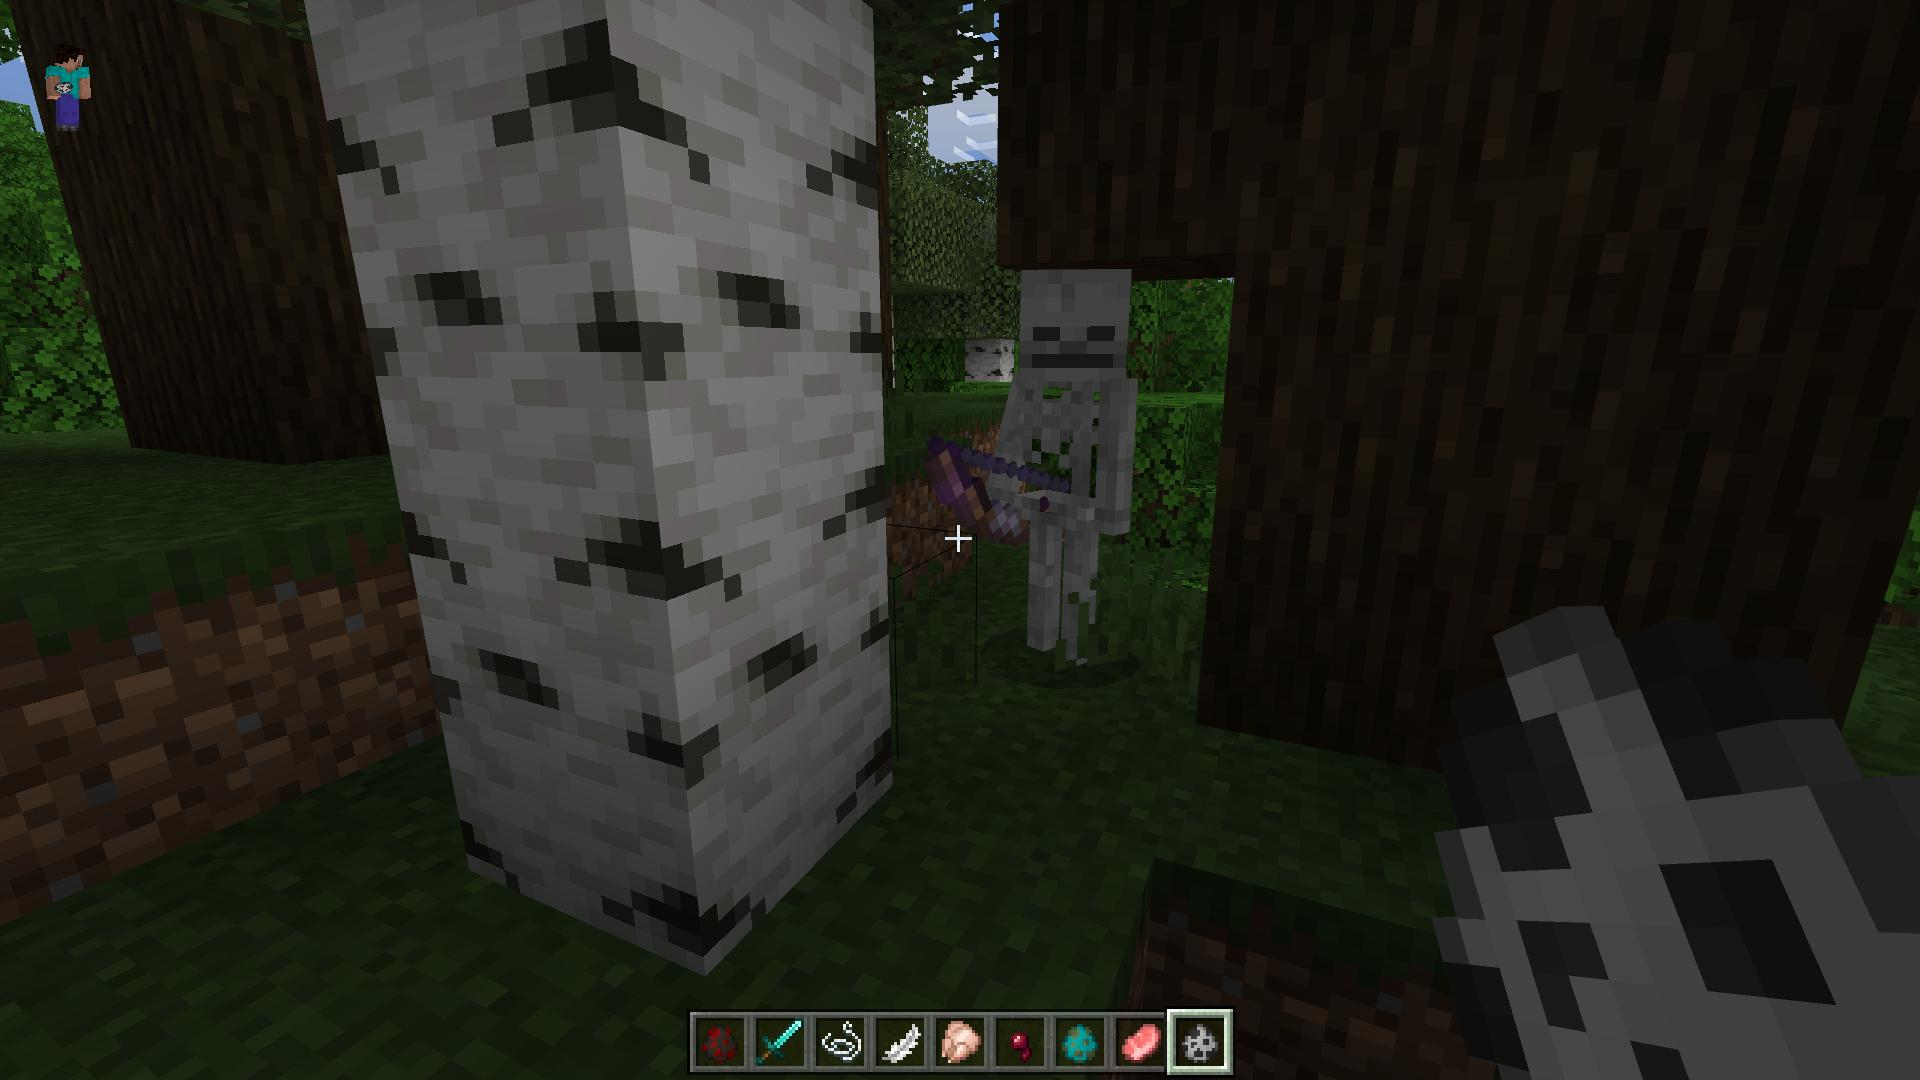skeleton: (939, 260, 1138, 658)
